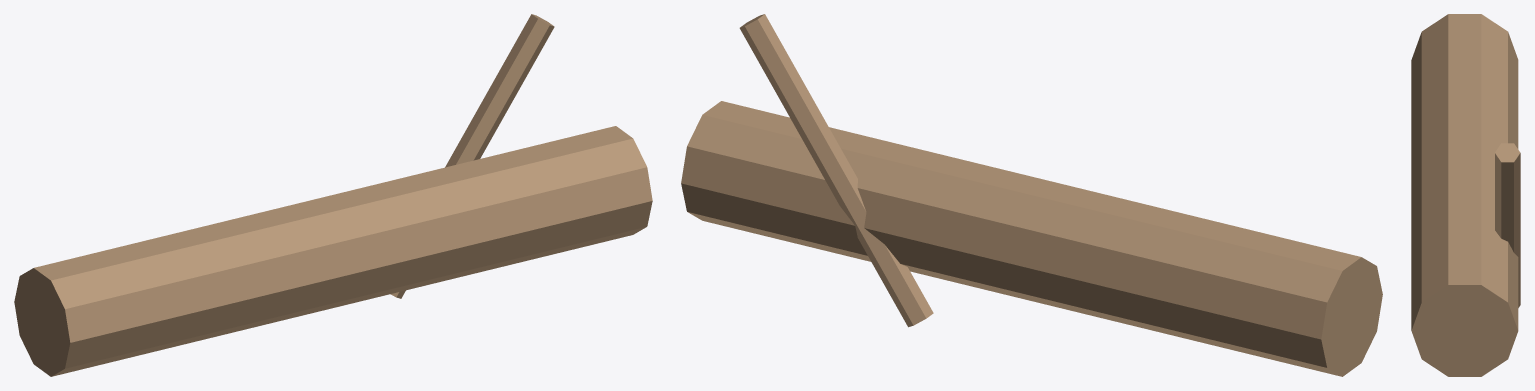
Rendered from downed_trunk.glb.
3 renders of one model, left to right at view 1: azimuth 30°, elevation 25°; view 2: azimuth 150°, elevation 25°; view 3: azimuth 270°, elevation 25°, orthographic. The views are drawn at different scales.
Visible parts, largest first — view 1: trunk, branch; view 2: trunk, branch; view 3: trunk, branch.
Boxes of the visible parts, <box> form: trunk: <box>14,126,652,376</box>; branch: <box>390,14,554,298</box>; trunk: <box>681,101,1382,376</box>; branch: <box>739,14,933,327</box>; trunk: <box>1411,14,1518,376</box>; branch: <box>1495,143,1520,307</box>.
Bounding box in the file's own units: 3 × 1.21 × 0.5101.
